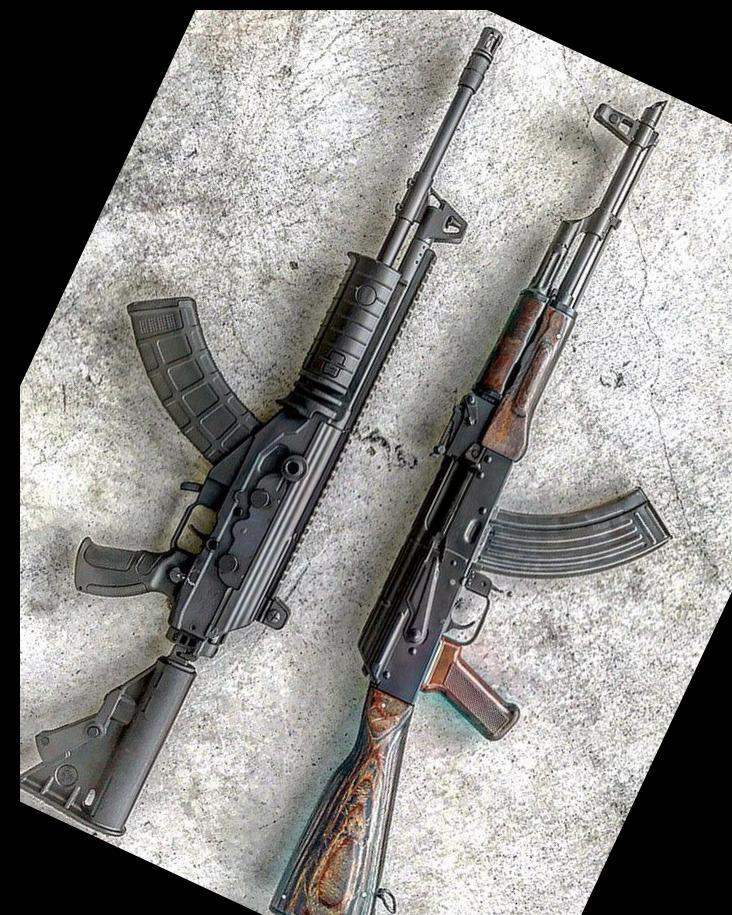larga: (26, 25, 506, 840), (265, 93, 674, 915)
